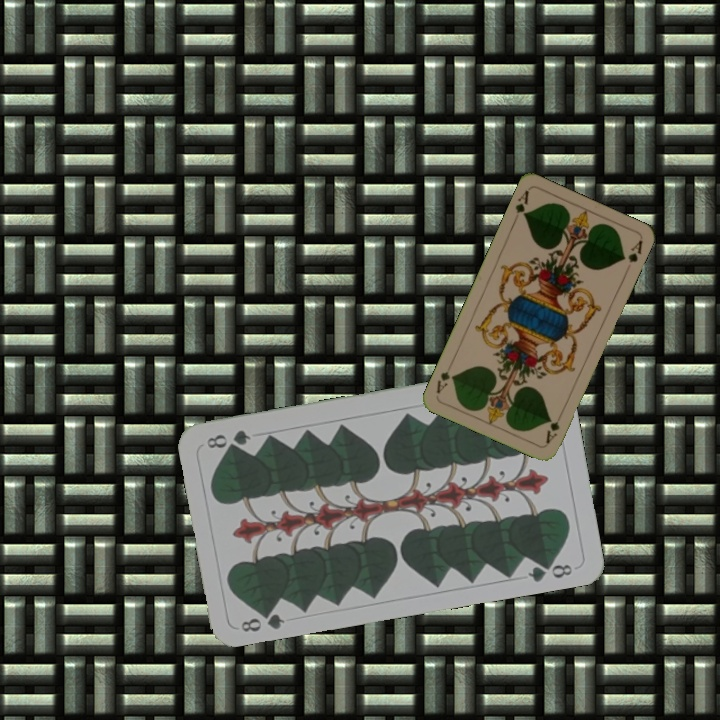G8: (236, 604, 288, 635)
GA: (509, 186, 532, 225), (542, 416, 562, 446)
